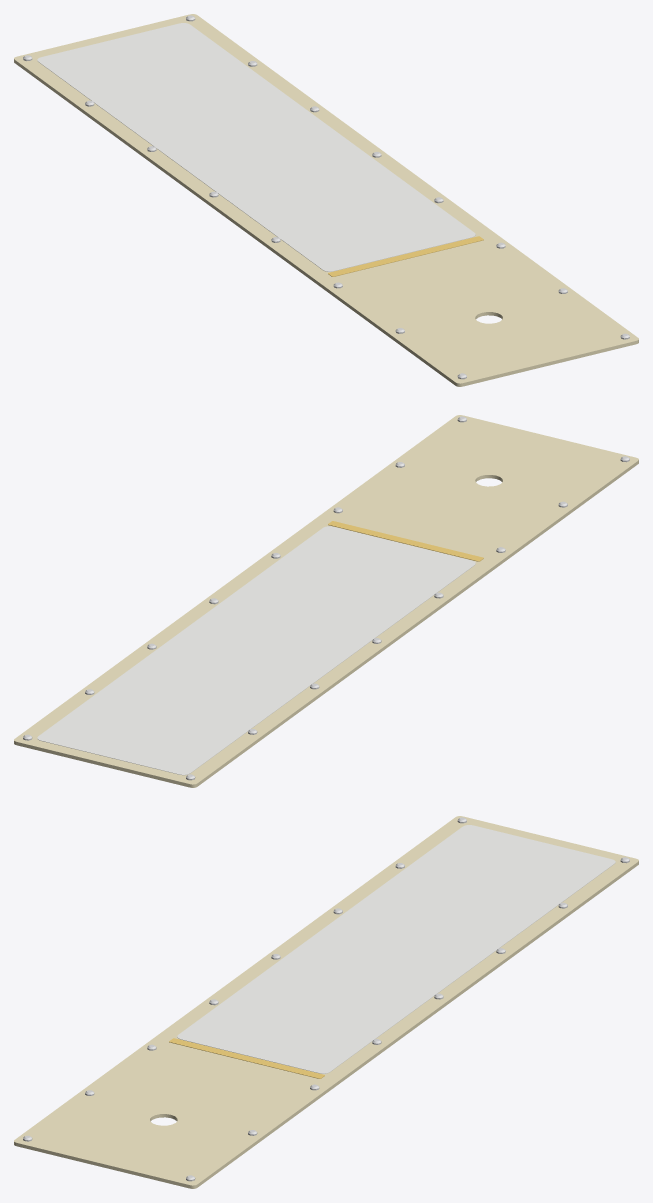
File: radiator_panel.glb
The picture shows the model from 3 angles, top to bottom: view 1: azimuth 30°, elevation 25°; view 2: azimuth 150°, elevation 25°; view 3: azimuth 330°, elevation 25°; orthographic projection.
Parts seen in each view (by area): view 1: radiator_panel; view 2: radiator_panel; view 3: radiator_panel.
Boxes of the visible parts, box(x1,y1,x2,y2) form: radiator_panel: box(14, 14, 638, 386); radiator_panel: box(14, 415, 638, 787); radiator_panel: box(14, 816, 638, 1188).
Size of the model in its own units: 0.083 by 0.00969 by 0.351.
